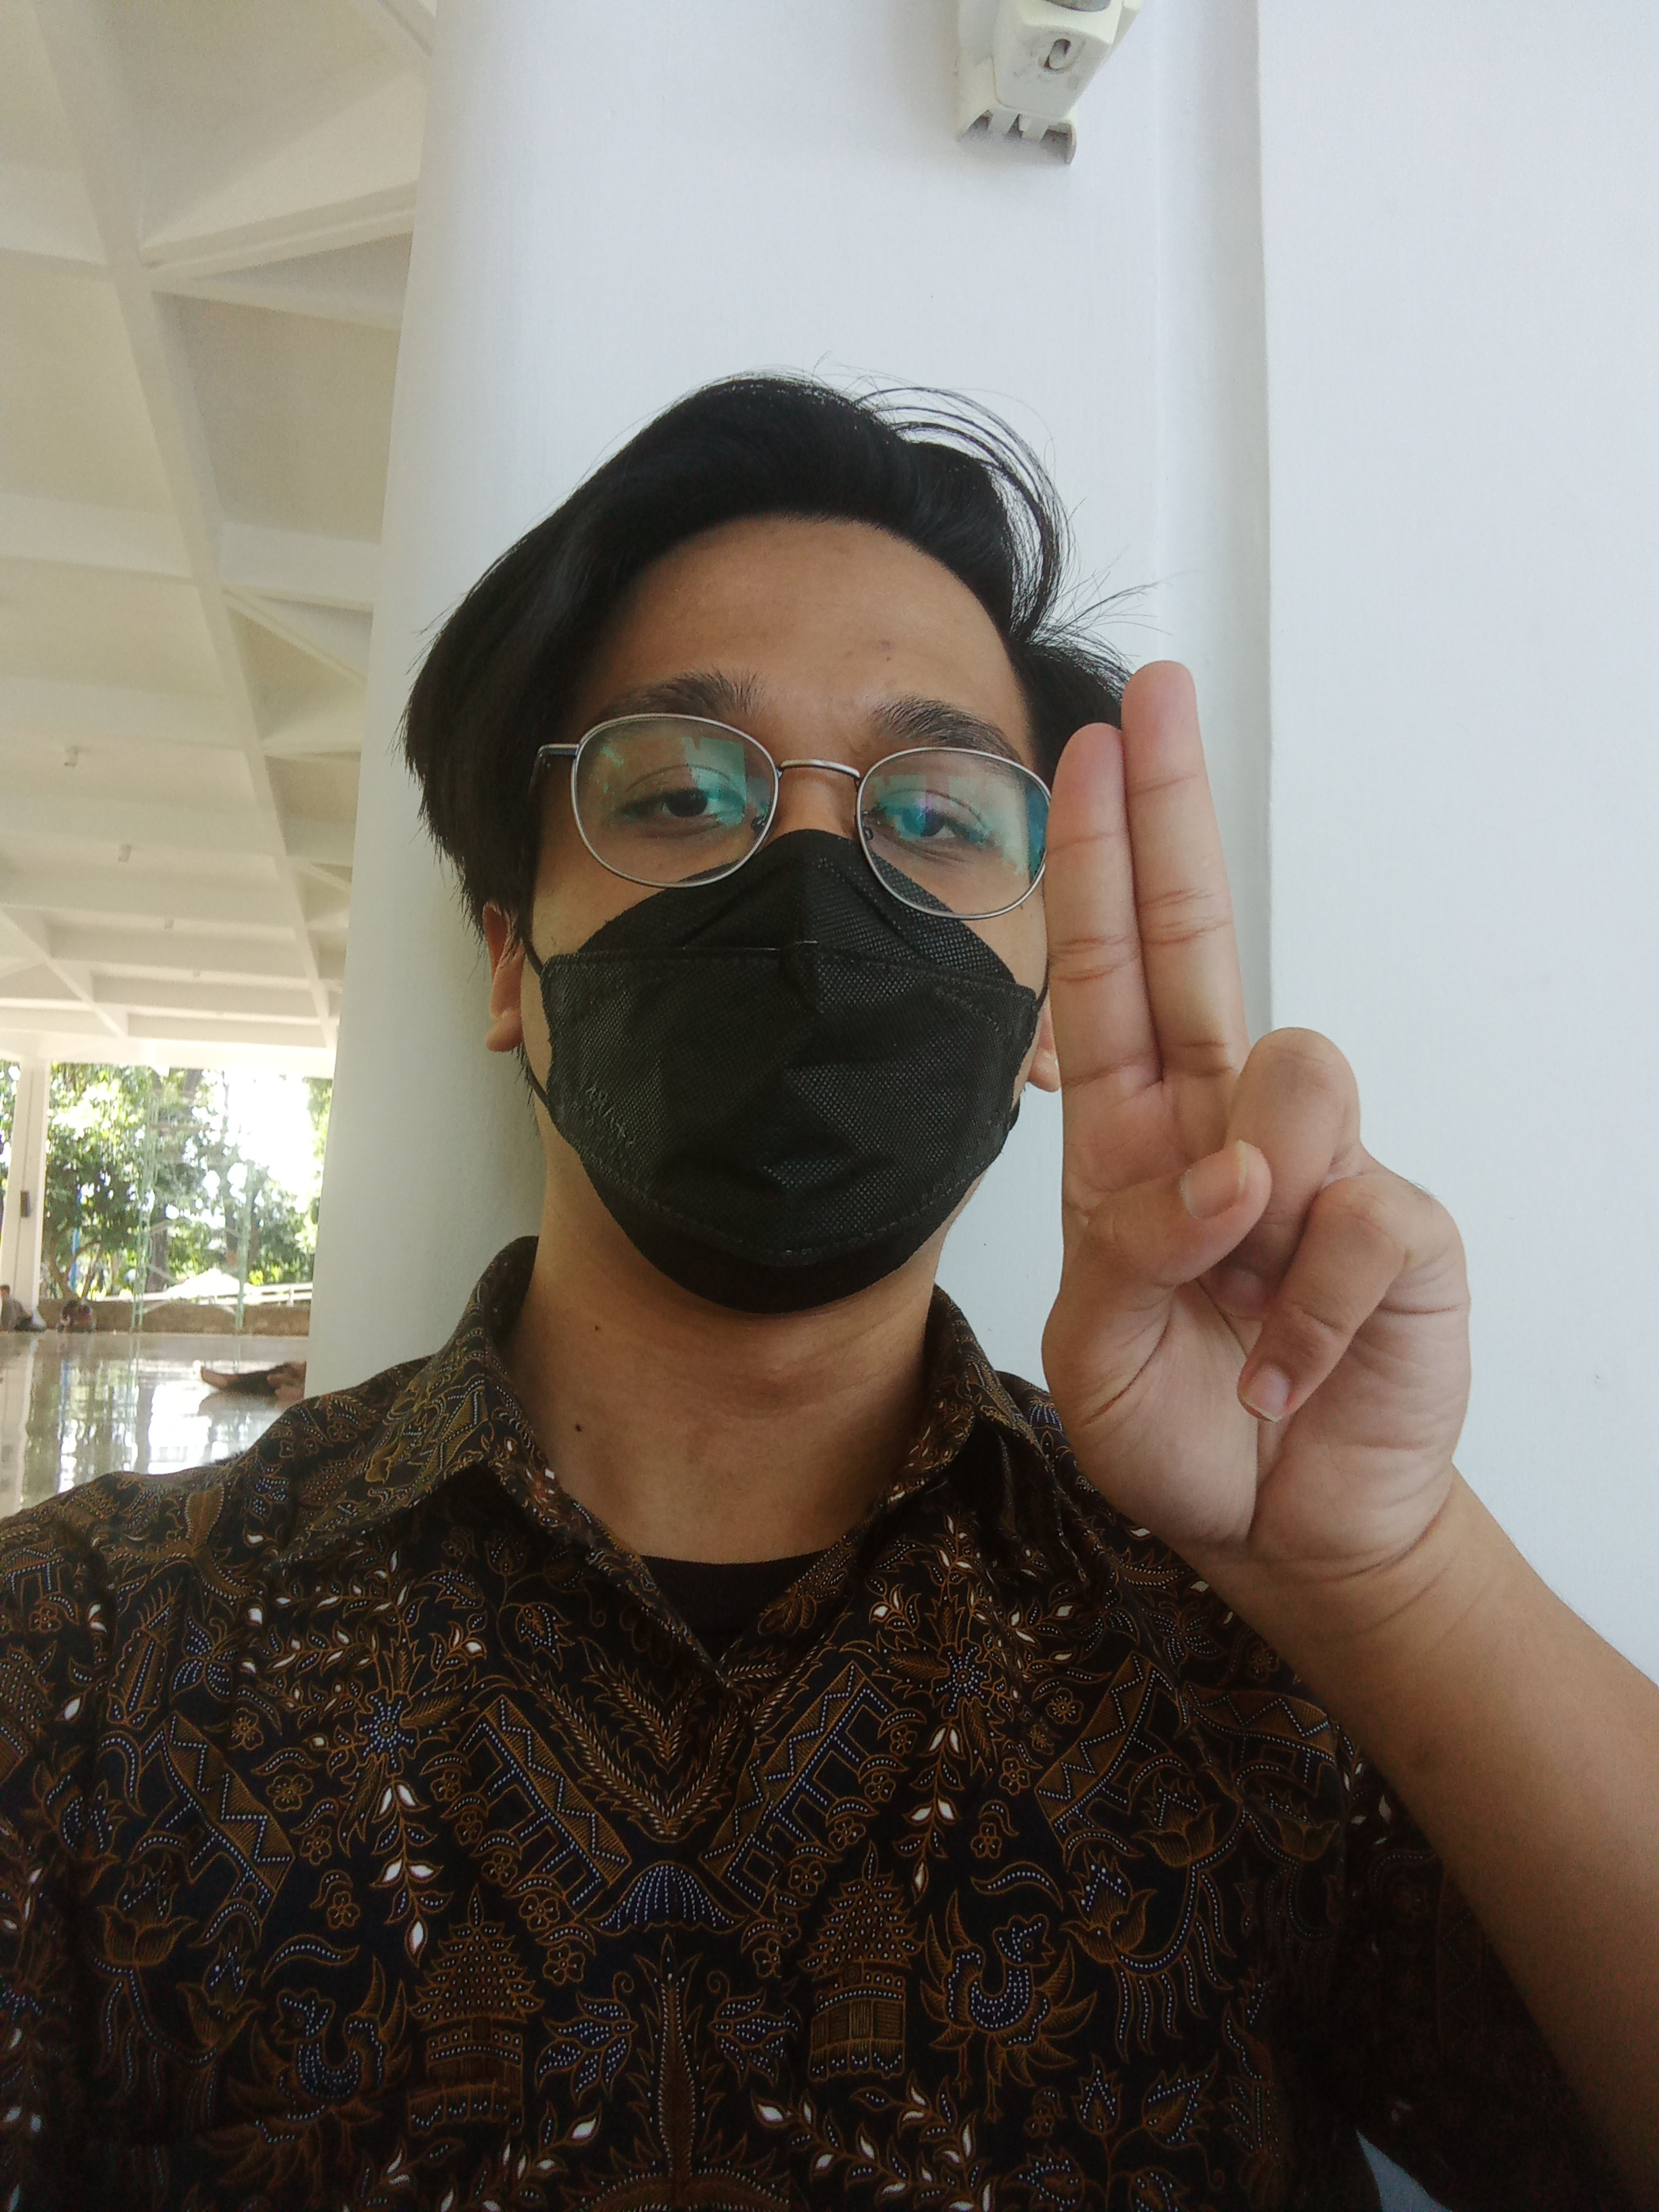U: (972, 644, 1598, 1627)
